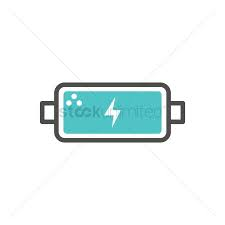charging sign: (53, 73, 204, 156)
